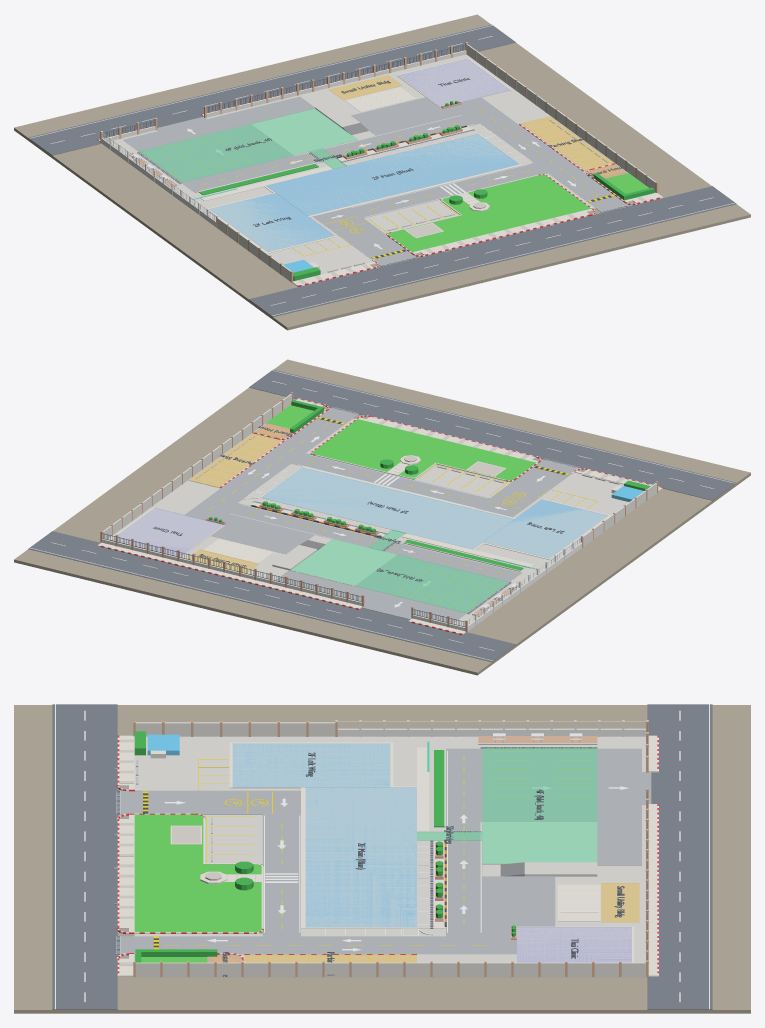
The model's file is site_ground.glb.
3 renders of one model, top to bottom at view 1: azimuth 30°, elevation 25°; view 2: azimuth 150°, elevation 25°; view 3: azimuth 270°, elevation 25°, orthographic. The views are drawn at different scales.
Parts seen in each view (by area): view 1: Ground_02_Roads_Loop, Ground_01_Earth_Yard, Ground_04_Sidewalks_Aprons, Guide_bld_front_2f_Main, Ground_06_Lawns_Hedges, Ground_09_Fences_Chainlink, Guide_bld_back_4f, Ground_08_BackAlley_Details, Ground_07_Markings_Crosswalk, Guide_bld_front_2f_Wing, Guide_bld_thai_clinic, Ground_05_Curbs_RedWhite (+2 smaller); view 2: Ground_02_Roads_Loop, Ground_01_Earth_Yard, Ground_04_Sidewalks_Aprons, Guide_bld_front_2f_Main, Ground_06_Lawns_Hedges, Ground_09_Fences_Chainlink, Guide_bld_back_4f, Ground_07_Markings_Crosswalk, Ground_08_BackAlley_Details, Guide_bld_front_2f_Wing, Guide_bld_thai_clinic, Ground_05_Curbs_RedWhite (+2 smaller); view 3: Ground_02_Roads_Loop, Ground_01_Earth_Yard, Ground_04_Sidewalks_Aprons, Guide_bld_front_2f_Main, Ground_09_Fences_Chainlink, Ground_06_Lawns_Hedges, Guide_bld_back_4f, Ground_08_BackAlley_Details, Guide_bld_front_2f_Wing, Ground_07_Markings_Crosswalk, Guide_bld_thai_clinic, Ground_05_Curbs_RedWhite (+3 smaller).
Boxes of the visible parts, box(x1,y1,x2,y2) form: Ground_02_Roads_Loop: box(28, 24, 736, 317); Ground_01_Earth_Yard: box(14, 14, 750, 330); Ground_04_Sidewalks_Aprons: box(97, 58, 661, 286); Guide_bld_front_2f_Main: box(266, 134, 518, 215); Ground_06_Lawns_Hedges: box(199, 100, 655, 280); Ground_09_Fences_Chainlink: box(100, 42, 658, 282); Guide_bld_back_4f: box(139, 108, 357, 182); Ground_08_BackAlley_Details: box(125, 87, 531, 201); Ground_07_Markings_Crosswalk: box(29, 25, 735, 315); Guide_bld_front_2f_Wing: box(209, 193, 333, 251); Guide_bld_thai_clinic: box(398, 59, 509, 106); Ground_05_Curbs_RedWhite: box(97, 51, 663, 286); Ground_02_Roads_Loop: box(28, 369, 736, 662); Ground_01_Earth_Yard: box(14, 359, 750, 675); Ground_04_Sidewalks_Aprons: box(98, 399, 662, 634); Guide_bld_front_2f_Main: box(261, 467, 513, 549); Ground_06_Lawns_Hedges: box(209, 400, 650, 570); Ground_09_Fences_Chainlink: box(100, 392, 658, 632); Guide_bld_back_4f: box(291, 539, 508, 612); Ground_07_Markings_Crosswalk: box(29, 370, 735, 660); Ground_08_BackAlley_Details: box(203, 465, 538, 616); Guide_bld_front_2f_Wing: box(484, 499, 607, 558); Guide_bld_thai_clinic: box(112, 508, 223, 555); Ground_05_Curbs_RedWhite: box(97, 398, 663, 634); Ground_02_Roads_Loop: box(52, 704, 712, 1009); Ground_01_Earth_Yard: box(14, 705, 750, 1013); Ground_04_Sidewalks_Aprons: box(118, 734, 658, 976); Guide_bld_front_2f_Main: box(305, 787, 416, 927); Ground_09_Fences_Chainlink: box(133, 720, 648, 976); Ground_06_Lawns_Hedges: box(134, 731, 515, 962); Guide_bld_back_4f: box(482, 747, 597, 863); Ground_08_BackAlley_Details: box(307, 733, 600, 939); Guide_bld_front_2f_Wing: box(232, 743, 390, 787); Ground_07_Markings_Crosswalk: box(55, 704, 709, 1009); Guide_bld_thai_clinic: box(517, 927, 631, 962); Ground_05_Curbs_RedWhite: box(116, 735, 658, 976).
Bounding box in the file's own units: 94 × 2.93 × 96.
